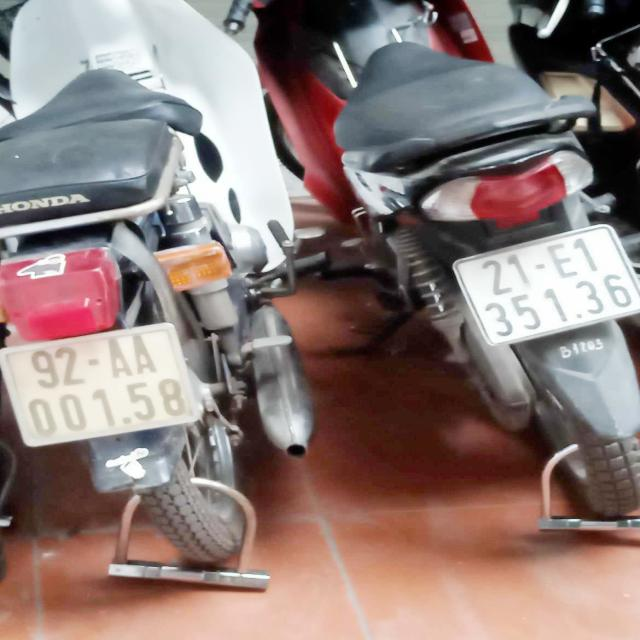license_plate: (12, 326, 206, 445), (453, 222, 640, 344)
